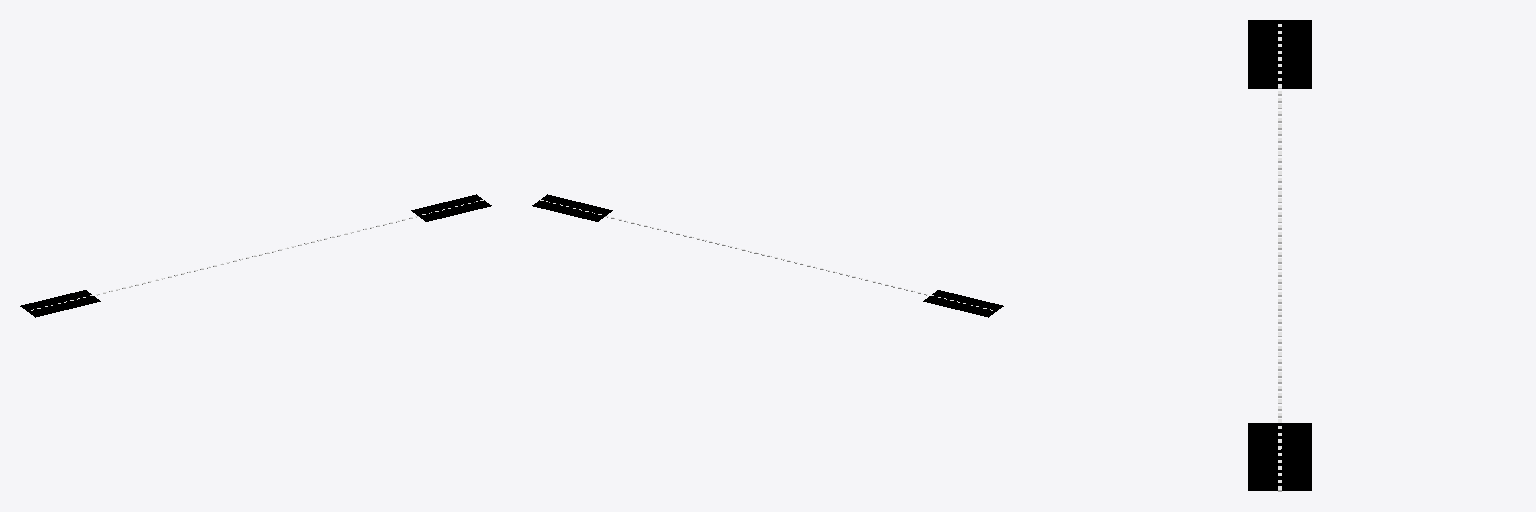
robot.urdf — Track_01:
<?xml version="1.0" encoding="utf-8"?>
<!-- This URDF was automatically created by SolidWorks to URDF Exporter! Originally created by Stephen Brawner ([email redacted]) 
     Commit Version: 1.6.0-4-g7f85cfe  Build Version: 1.6.7995.38578
     For more information, please see http://wiki.ros.org/sw_urdf_exporter -->
<robot
  name="Track_01">
  <link
    name="Track_link">
    <inertial>
      <origin
        xyz="4.9967 -4.4409E-16 -0.0125"
        rpy="0 0 0" />
      <mass
        value="675" />
      <inertia
        ixx="9.6258"
        ixy="-1.4331E-12"
        ixz="-5.6401E-13"
        iyy="5625"
        iyz="2.6467E-13"
        izz="5634.6" />
    </inertial>
    <visual>
      <origin
        xyz="0 0 0"
        rpy="0 0 0" />
      <geometry>
        <mesh
          filename="package://Track_01/meshes/Track_link.STL" />
      </geometry>
      <material
        name="">
        <color
          rgba="0 0 0 1" />
      </material>
    </visual>
    <collision>
      <origin
        xyz="0 0 0"
        rpy="0 0 0" />
      <geometry>
        <mesh
          filename="package://Track_01/meshes/Track_link.STL" />
      </geometry>
    </collision>
  </link>
  <link
    name="Track_lane">
    <inertial>
      <origin
        xyz="4.9 -1.3323E-15 -0.0125"
        rpy="0 0 0" />
      <mass
        value="45" />
      <inertia
        ixx="0.011719"
        ixy="-6.7221E-17"
        ixz="-1.9421E-17"
        iyy="0.039844"
        iyz="-5.9169E-18"
        izz="0.046875" />
    </inertial>
    <visual>
      <origin
        xyz="0 0 0"
        rpy="0 0 0" />
      <geometry>
        <mesh
          filename="package://Track_01/meshes/Track_lane.STL" />
      </geometry>
      <material
        name="">
        <color
          rgba="1 1 1 1" />
      </material>
    </visual>
    <collision>
      <origin
        xyz="0 0 0"
        rpy="0 0 0" />
      <geometry>
        <mesh
          filename="package://Track_01/meshes/Track_lane.STL" />
      </geometry>
    </collision>
  </link>
  <joint
    name="Track_lane_joint"
    type="fixed">
    <origin
      xyz="0.15 0 0"
      rpy="0 0 0" />
    <parent
      link="Track_link" />
    <child
      link="Track_lane" />
    <axis
      xyz="0 0 0" />
  </joint>
  <link
    name="Back_Track">
    <inertial>
      <origin
        xyz="0 -8.8818E-16 -0.0125"
        rpy="0 0 0" />
      <mass
        value="135" />
      <inertia
        ixx="1.9252"
        ixy="1.1213E-14"
        ixz="-4.978E-15"
        iyy="45.006"
        iyz="-5.6329E-17"
        izz="46.917" />
    </inertial>
    <visual>
      <origin
        xyz="0 0 0"
        rpy="0 0 0" />
      <geometry>
        <mesh
          filename="package://Track_01/meshes/Back_Track.STL" />
      </geometry>
      <material
        name="">
        <color
          rgba="0 0 0 1" />
      </material>
    </visual>
    <collision>
      <origin
        xyz="0 0 0"
        rpy="0 0 0" />
      <geometry>
        <mesh
          filename="package://Track_01/meshes/Back_Track.STL" />
      </geometry>
    </collision>
  </link>
  <joint
    name="Back_Track_joint"
    type="fixed">
    <origin
      xyz="-1.0033 0 0"
      rpy="0 0 0" />
    <parent
      link="Track_link" />
    <child
      link="Back_Track" />
    <axis
      xyz="0 0 0" />
  </joint>
  <link
    name="Back_lane">
    <inertial>
      <origin
        xyz="0.5 8.8818E-16 -0.0125"
        rpy="0 0 0" />
      <mass
        value="9" />
      <inertia
        ixx="0.0023438"
        ixy="-2.4882E-17"
        ixz="-6.6795E-18"
        iyy="0.0079688"
        iyz="2.6971E-18"
        izz="0.009375" />
    </inertial>
    <visual>
      <origin
        xyz="0 0 0"
        rpy="0 0 0" />
      <geometry>
        <mesh
          filename="package://Track_01/meshes/Back_lane.STL" />
      </geometry>
      <material
        name="">
        <color
          rgba="1 1 1 1" />
      </material>
    </visual>
    <collision>
      <origin
        xyz="0 0 0"
        rpy="0 0 0" />
      <geometry>
        <mesh
          filename="package://Track_01/meshes/Back_lane.STL" />
      </geometry>
    </collision>
  </link>
  <joint
    name="Back_lane_joint"
    type="fixed">
    <origin
      xyz="-0.44667 0 0"
      rpy="0 0 0" />
    <parent
      link="Back_Track" />
    <child
      link="Back_lane" />
    <axis
      xyz="0 0 0" />
  </joint>
  <link
    name="Front_Track">
    <inertial>
      <origin
        xyz="0 0 -0.0125"
        rpy="0 0 0" />
      <mass
        value="135" />
      <inertia
        ixx="1.9252"
        ixy="-2.9754E-14"
        ixz="-6.9568E-15"
        iyy="45.006"
        iyz="-3.4254E-16"
        izz="46.917" />
    </inertial>
    <visual>
      <origin
        xyz="0 0 0"
        rpy="0 0 0" />
      <geometry>
        <mesh
          filename="package://Track_01/meshes/Front_Track.STL" />
      </geometry>
      <material
        name="">
        <color
          rgba="0 0 0 1" />
      </material>
    </visual>
    <collision>
      <origin
        xyz="0 0 0"
        rpy="0 0 0" />
      <geometry>
        <mesh
          filename="package://Track_01/meshes/Front_Track.STL" />
      </geometry>
    </collision>
  </link>
  <joint
    name="Front_Track_joint"
    type="fixed">
    <origin
      xyz="10.997 0 0"
      rpy="0 0 0" />
    <parent
      link="Track_link" />
    <child
      link="Front_Track" />
    <axis
      xyz="0 0 0" />
  </joint>
  <link
    name="Front_lane">
    <inertial>
      <origin
        xyz="-0.9 1.1102E-16 -0.0125"
        rpy="0 0 0" />
      <mass
        value="9" />
      <inertia
        ixx="0.0023438"
        ixy="9.9204E-18"
        ixz="4.8054E-18"
        iyy="0.0079687"
        iyz="-1.2041E-18"
        izz="0.009375" />
    </inertial>
    <visual>
      <origin
        xyz="0 0 0"
        rpy="0 0 0" />
      <geometry>
        <mesh
          filename="package://Track_01/meshes/Front_lane.STL" />
      </geometry>
      <material
        name="">
        <color
          rgba="1 1 1 1" />
      </material>
    </visual>
    <collision>
      <origin
        xyz="0 0 0"
        rpy="0 0 0" />
      <geometry>
        <mesh
          filename="package://Track_01/meshes/Front_lane.STL" />
      </geometry>
    </collision>
  </link>
  <joint
    name="Front_lane_joint"
    type="fixed">
    <origin
      xyz="0.95333 0 0"
      rpy="0 0 0" />
    <parent
      link="Front_Track" />
    <child
      link="Front_lane" />
    <axis
      xyz="0 0 0" />
  </joint>
</robot>

--- Render facts (derived) ---
The picture shows the robot from 3 angles, left to right: view 1: azimuth 30°, elevation 25°; view 2: azimuth 150°, elevation 25°; view 3: azimuth 270°, elevation 25°; orthographic projection.
Model Track_01 with 6 links and 5 joints (5 fixed), rooted at Track_link, posed all joints at 0.
Links seen in each view (by area): view 1: Back_Track, Front_Track; view 2: Back_Track, Front_Track; view 3: Back_Track, Front_Track, Track_lane.
Link boxes in pixels (x1,y1,x2,y2): Back_Track: (20, 290, 100, 317); Front_Track: (411, 194, 491, 221); Back_Track: (923, 290, 1003, 317); Front_Track: (532, 194, 612, 221); Back_Track: (1248, 20, 1311, 88); Front_Track: (1248, 423, 1311, 490); Track_lane: (1278, 91, 1281, 422).
Bounding box of the posed robot: 14 × 0.8 × 0.025 m (x, y, z).
Meshes: 6 distinct files referenced, 5 mesh visuals loaded (5 binary STL); not drawn: 1 (reference not matched to a file when rendering).
